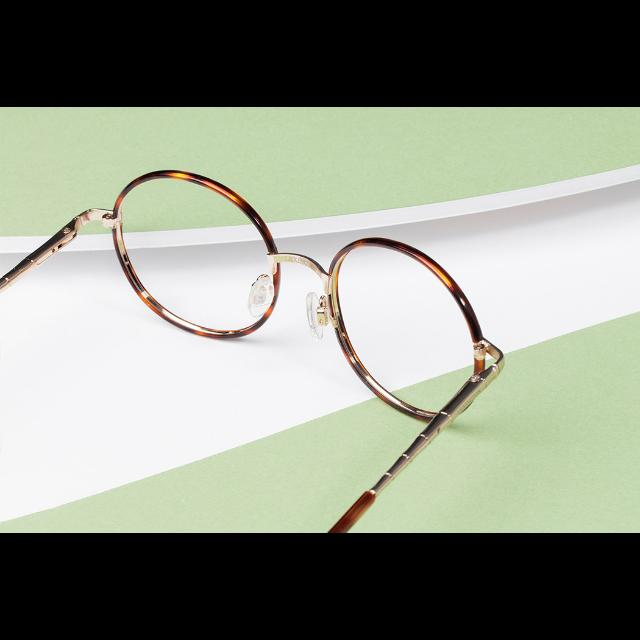glasses: (5, 164, 507, 534)
